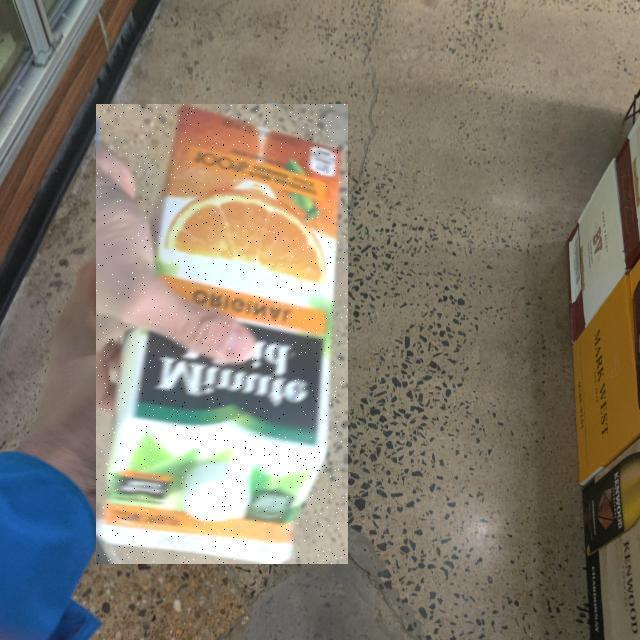Juice: (97, 104, 349, 564)
